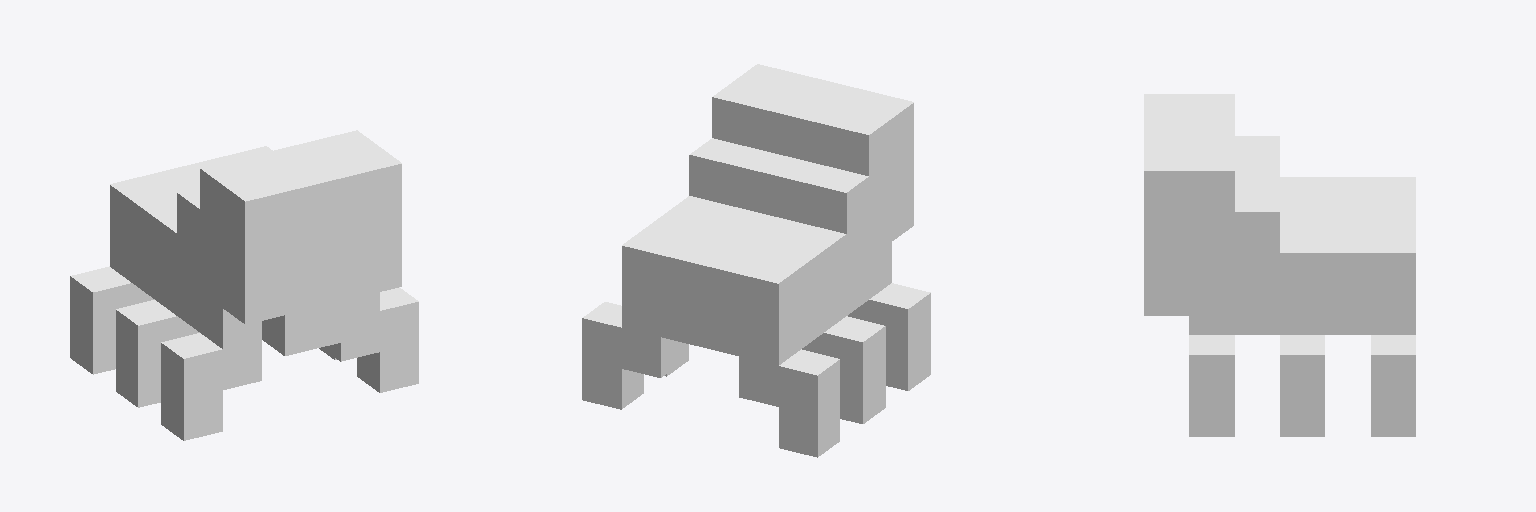
Rendered from enemy3.obj.
The picture shows the model from 3 angles: view 1: azimuth 30°, elevation 25°; view 2: azimuth 150°, elevation 25°; view 3: azimuth 270°, elevation 25°; orthographic projection.
Parts seen in each view (by area): view 1: object 1; view 2: object 1; view 3: object 1.
Boxes of the visible parts, x1=… form: object 1: x1=70, y1=130, x2=418, y2=440; object 1: x1=582, y1=64, x2=930, y2=457; object 1: x1=1144, y1=94, x2=1415, y2=436.
Bounding box in the file's own units: 0.6 × 0.6 × 0.6.